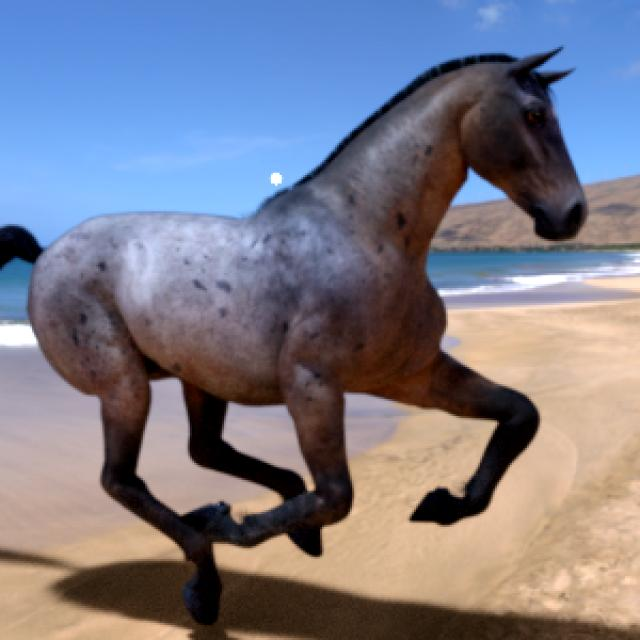horse: (0, 49, 588, 623)
